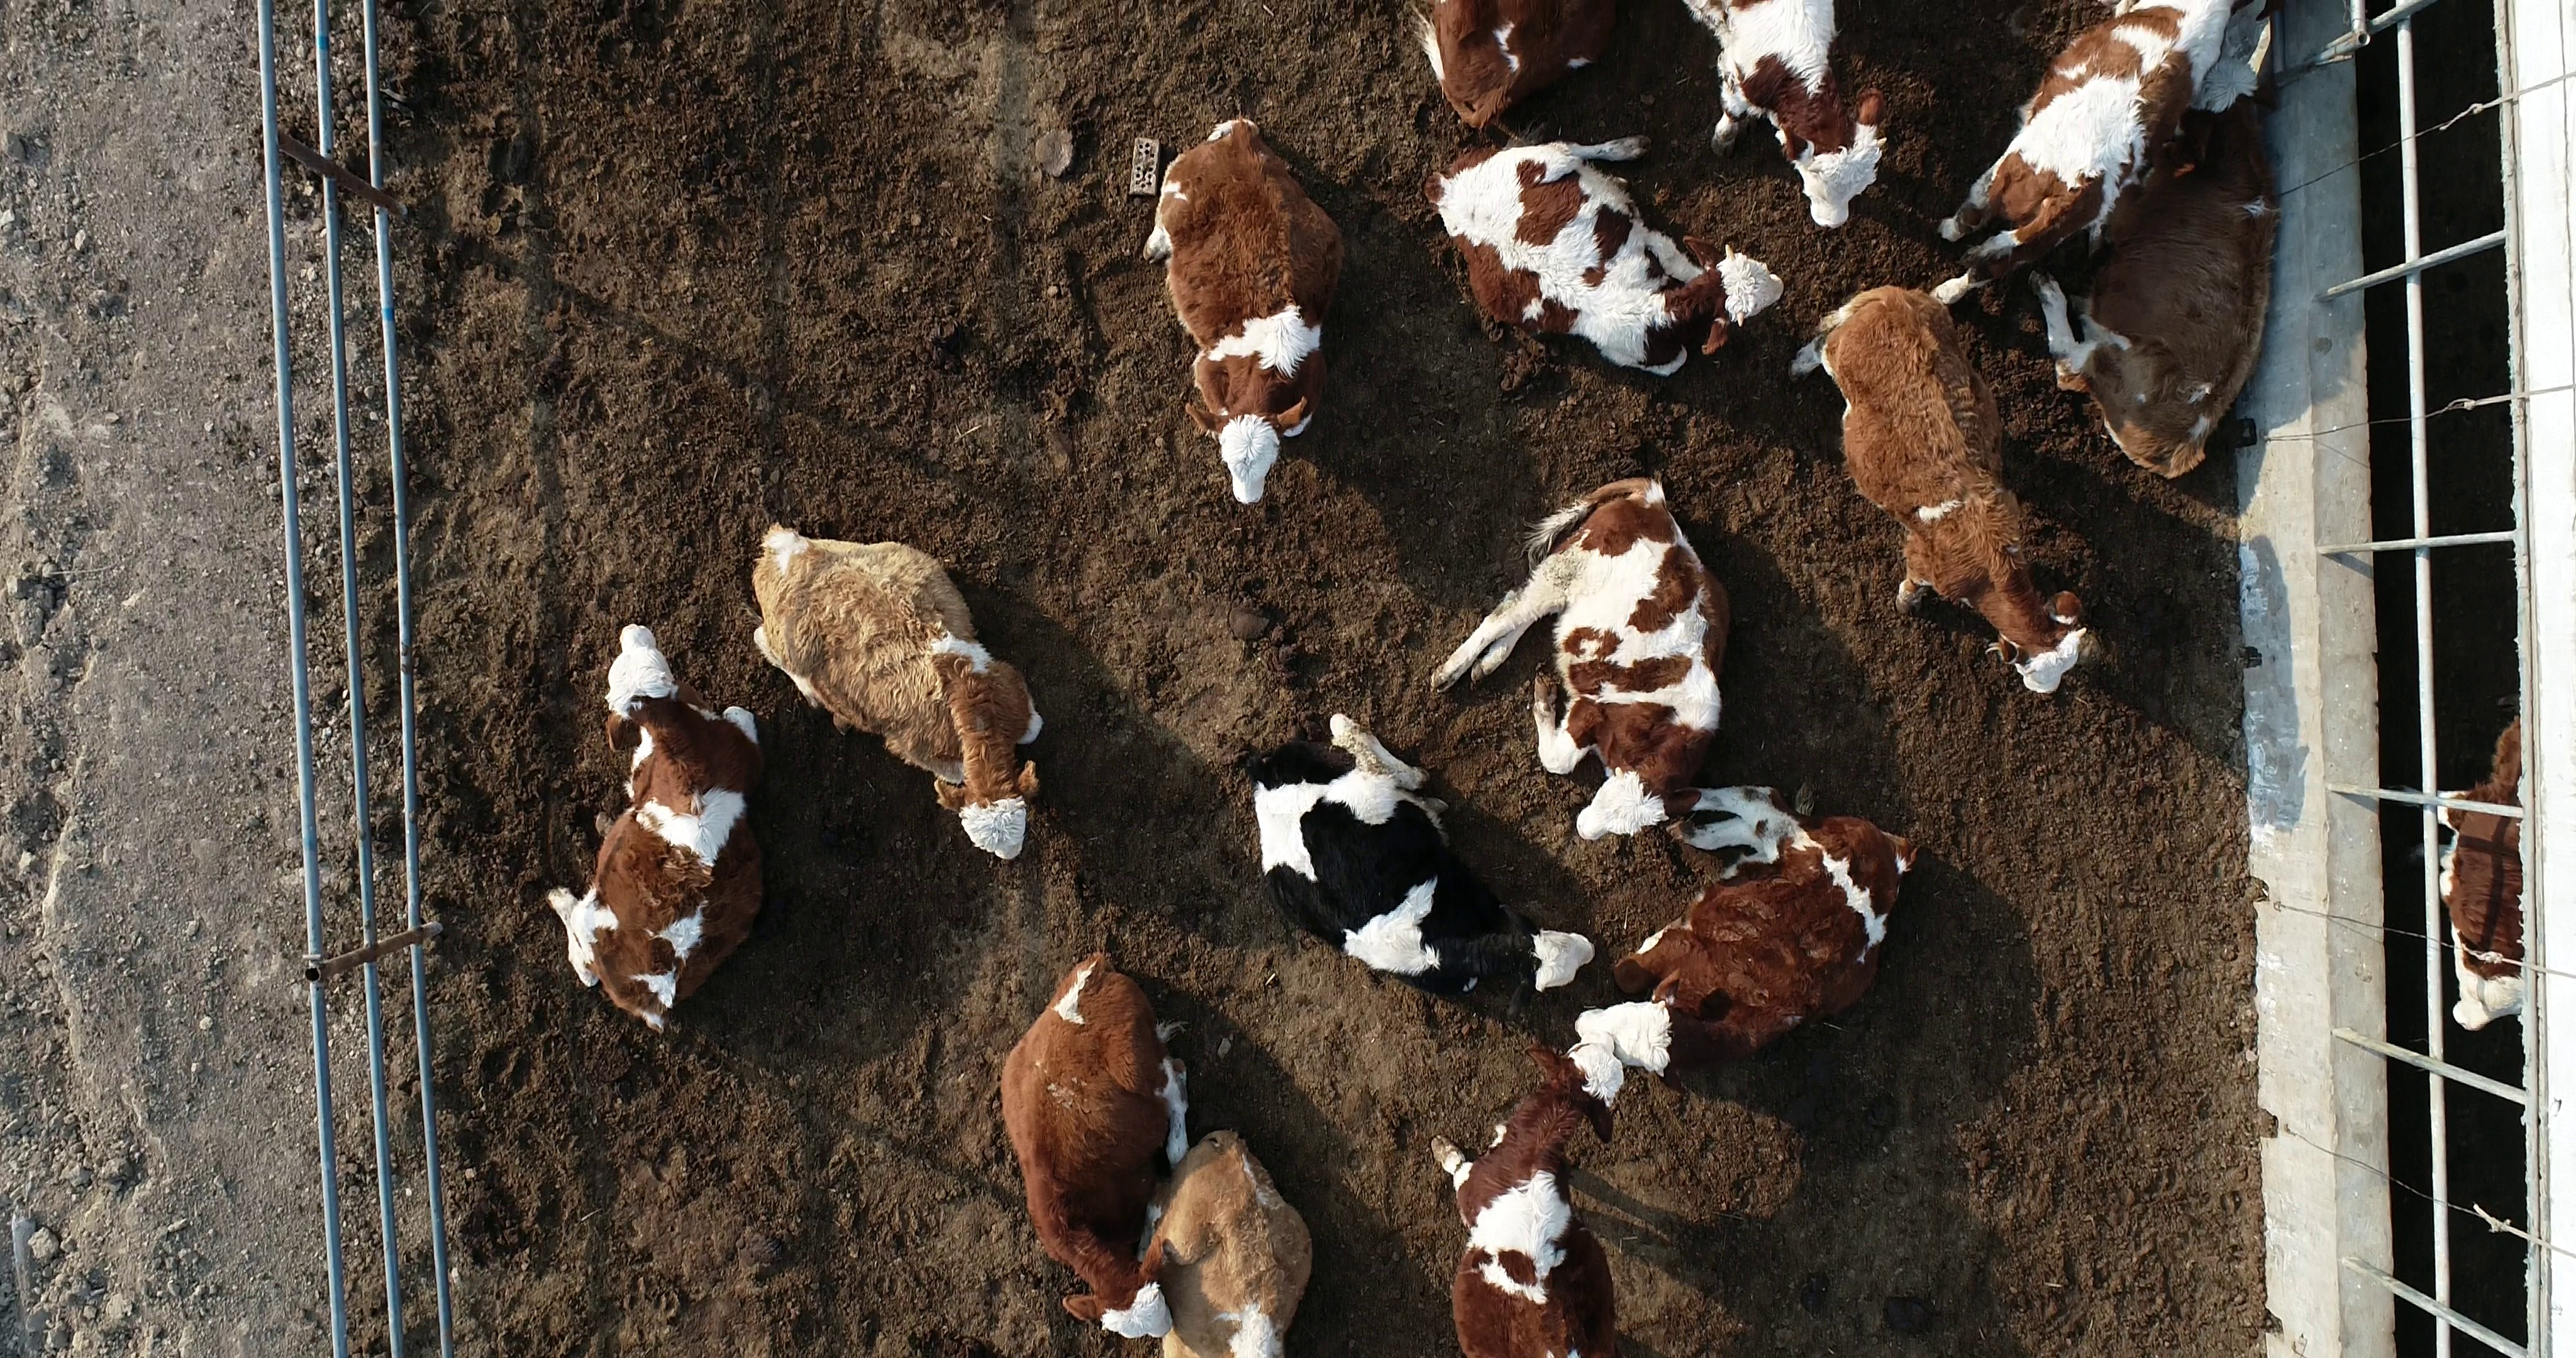cattle: (1785, 286, 2094, 697), (743, 516, 1049, 871), (1136, 116, 1353, 513), (997, 949, 1194, 1341)
